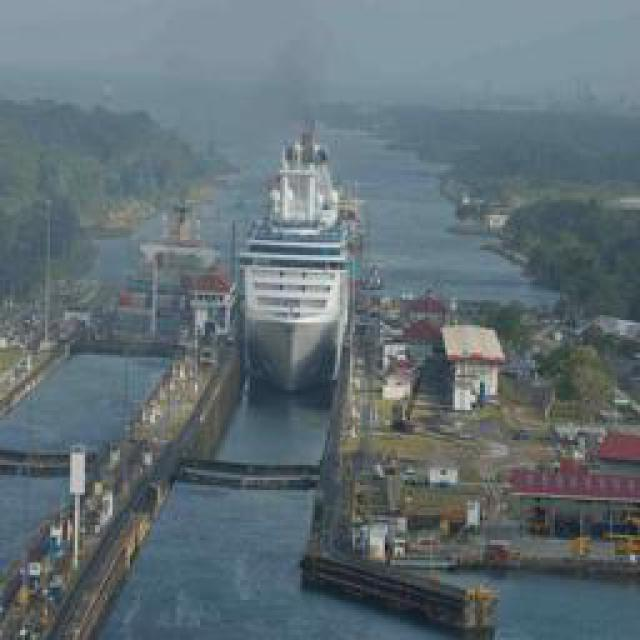Ship: (237, 118, 360, 406)
